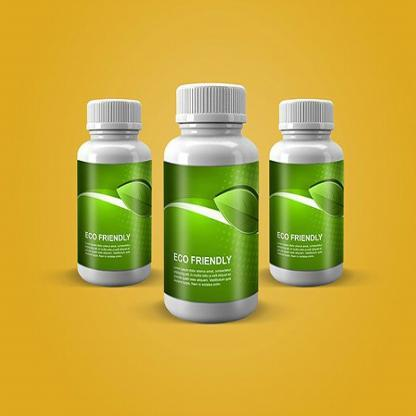jar: (163, 84, 259, 322), (75, 100, 152, 285), (269, 100, 344, 285)
